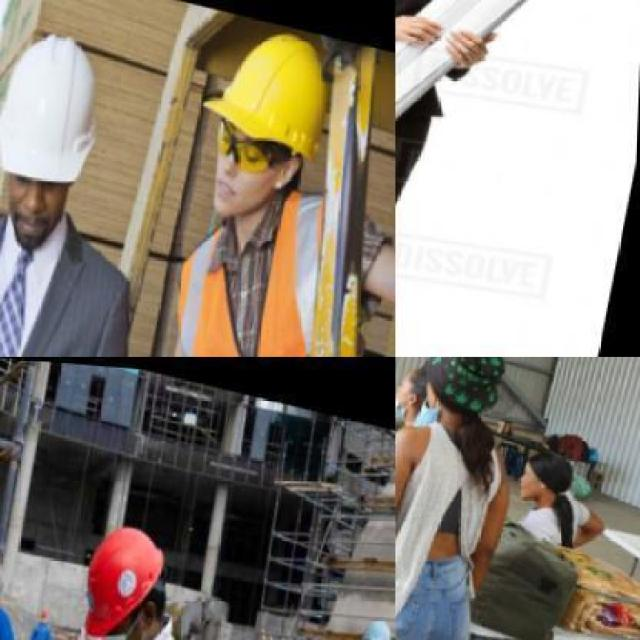Vest: (128, 163, 394, 355)
